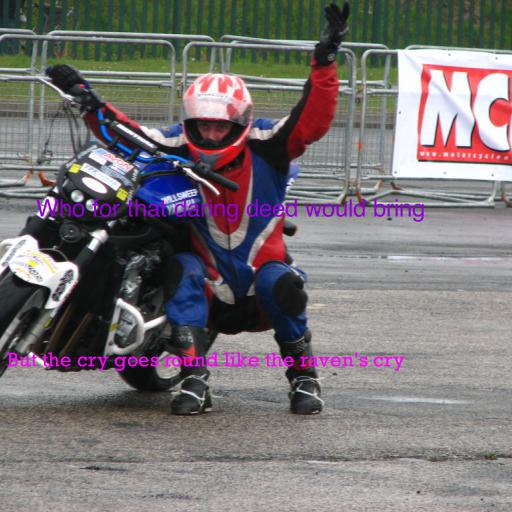Rockwell: (7, 352, 405, 371)
SignPainter: (35, 199, 425, 222)
